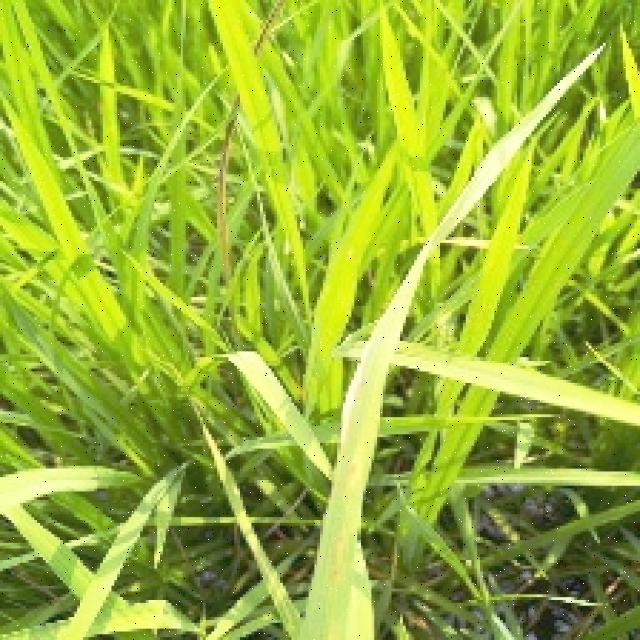unhealth: (217, 94, 241, 310)
